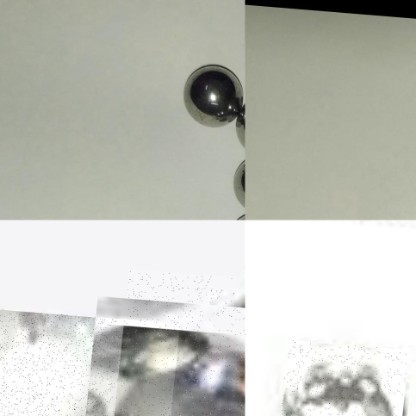ironball: (0, 300, 185, 415), (117, 264, 245, 415), (283, 335, 413, 415), (174, 60, 246, 131)
